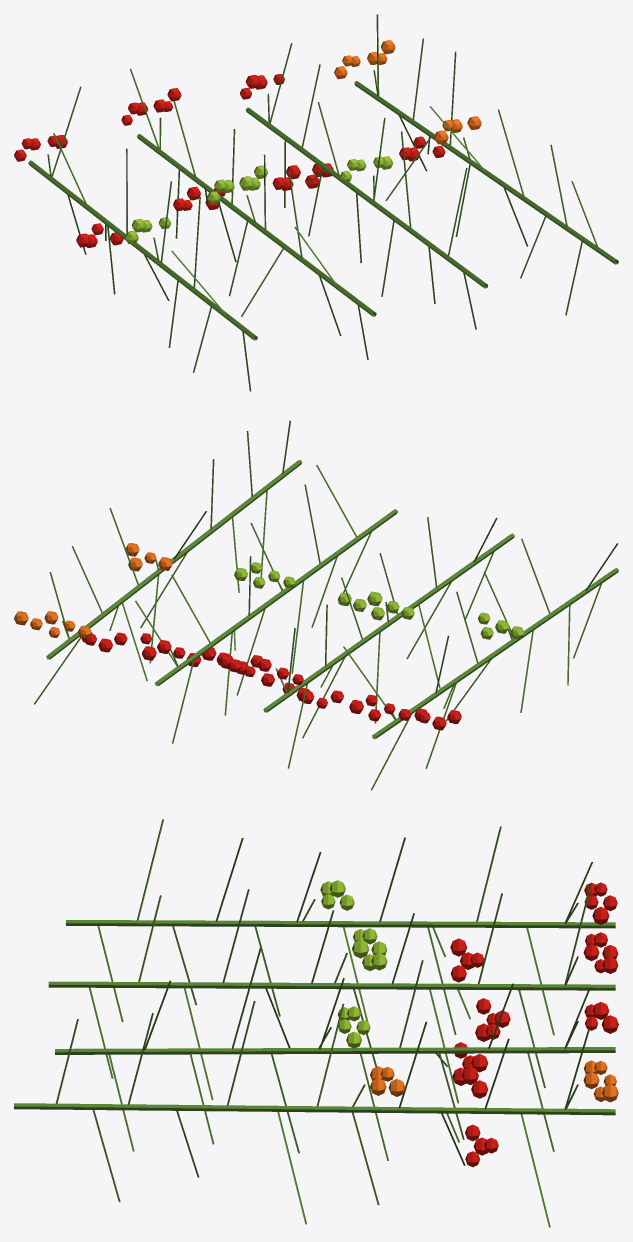
The model's file is r17c1_stems.obj.
3 views of the same model, one above another, from view 1: azimuth 30°, elevation 25°; view 2: azimuth 150°, elevation 25°; view 3: azimuth 270°, elevation 25° (orthographic). The views are drawn at different scales.
Parts seen in each view (by area): view 1: r17c1_stems; view 2: r17c1_stems; view 3: r17c1_stems.
Part boxes in pixels (x1,y1,x2,y2): r17c1_stems: [14, 14, 618, 391]; r17c1_stems: [14, 420, 618, 790]; r17c1_stems: [14, 819, 618, 1227].
Size of the model in its own units: 2.13 by 0.8575 by 2.26.
